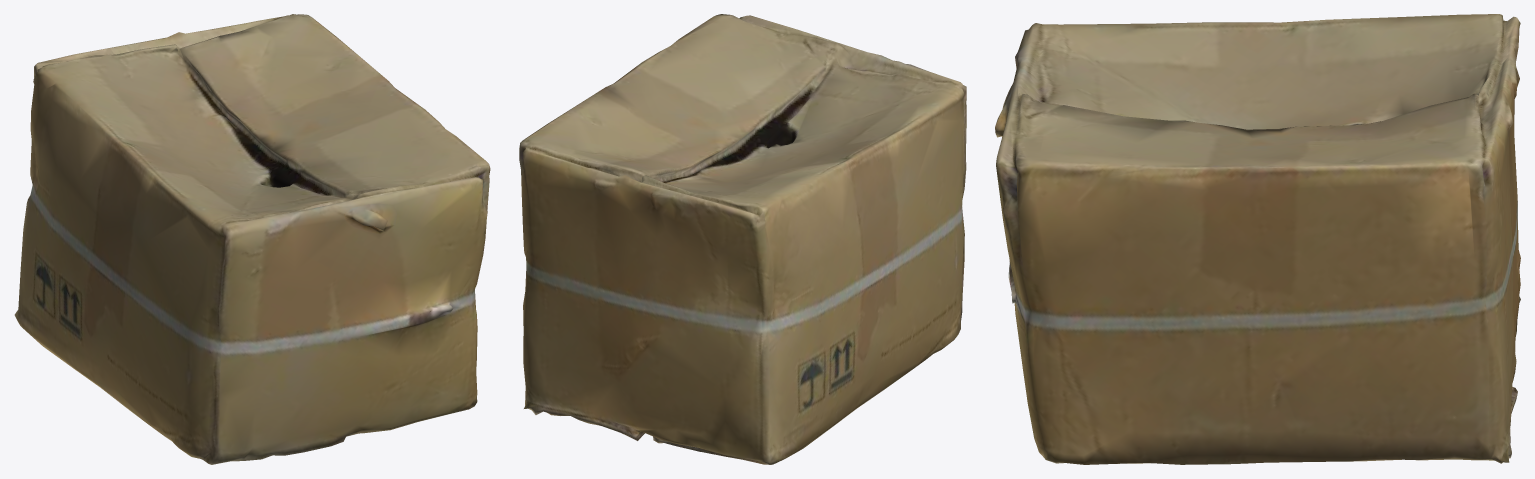
File: cardboard_box_01.glb
3 renders of one model, left to right at view 1: azimuth 30°, elevation 25°; view 2: azimuth 150°, elevation 25°; view 3: azimuth 270°, elevation 25°, orthographic. The views are drawn at different scales.
Visible parts, largest first — view 1: cardboard_box_01; view 2: cardboard_box_01; view 3: cardboard_box_01.
Part boxes in pixels (box(x1,y1,x2,y2)): cardboard_box_01: box(14, 14, 490, 464); cardboard_box_01: box(519, 14, 966, 464); cardboard_box_01: box(995, 14, 1520, 464).
Size of the model in its own units: 0.3868 by 0.3418 by 0.5159.
1 material, 1 textured.
